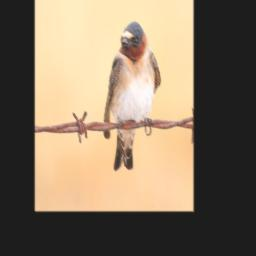Swallow: (103, 20, 161, 172)
